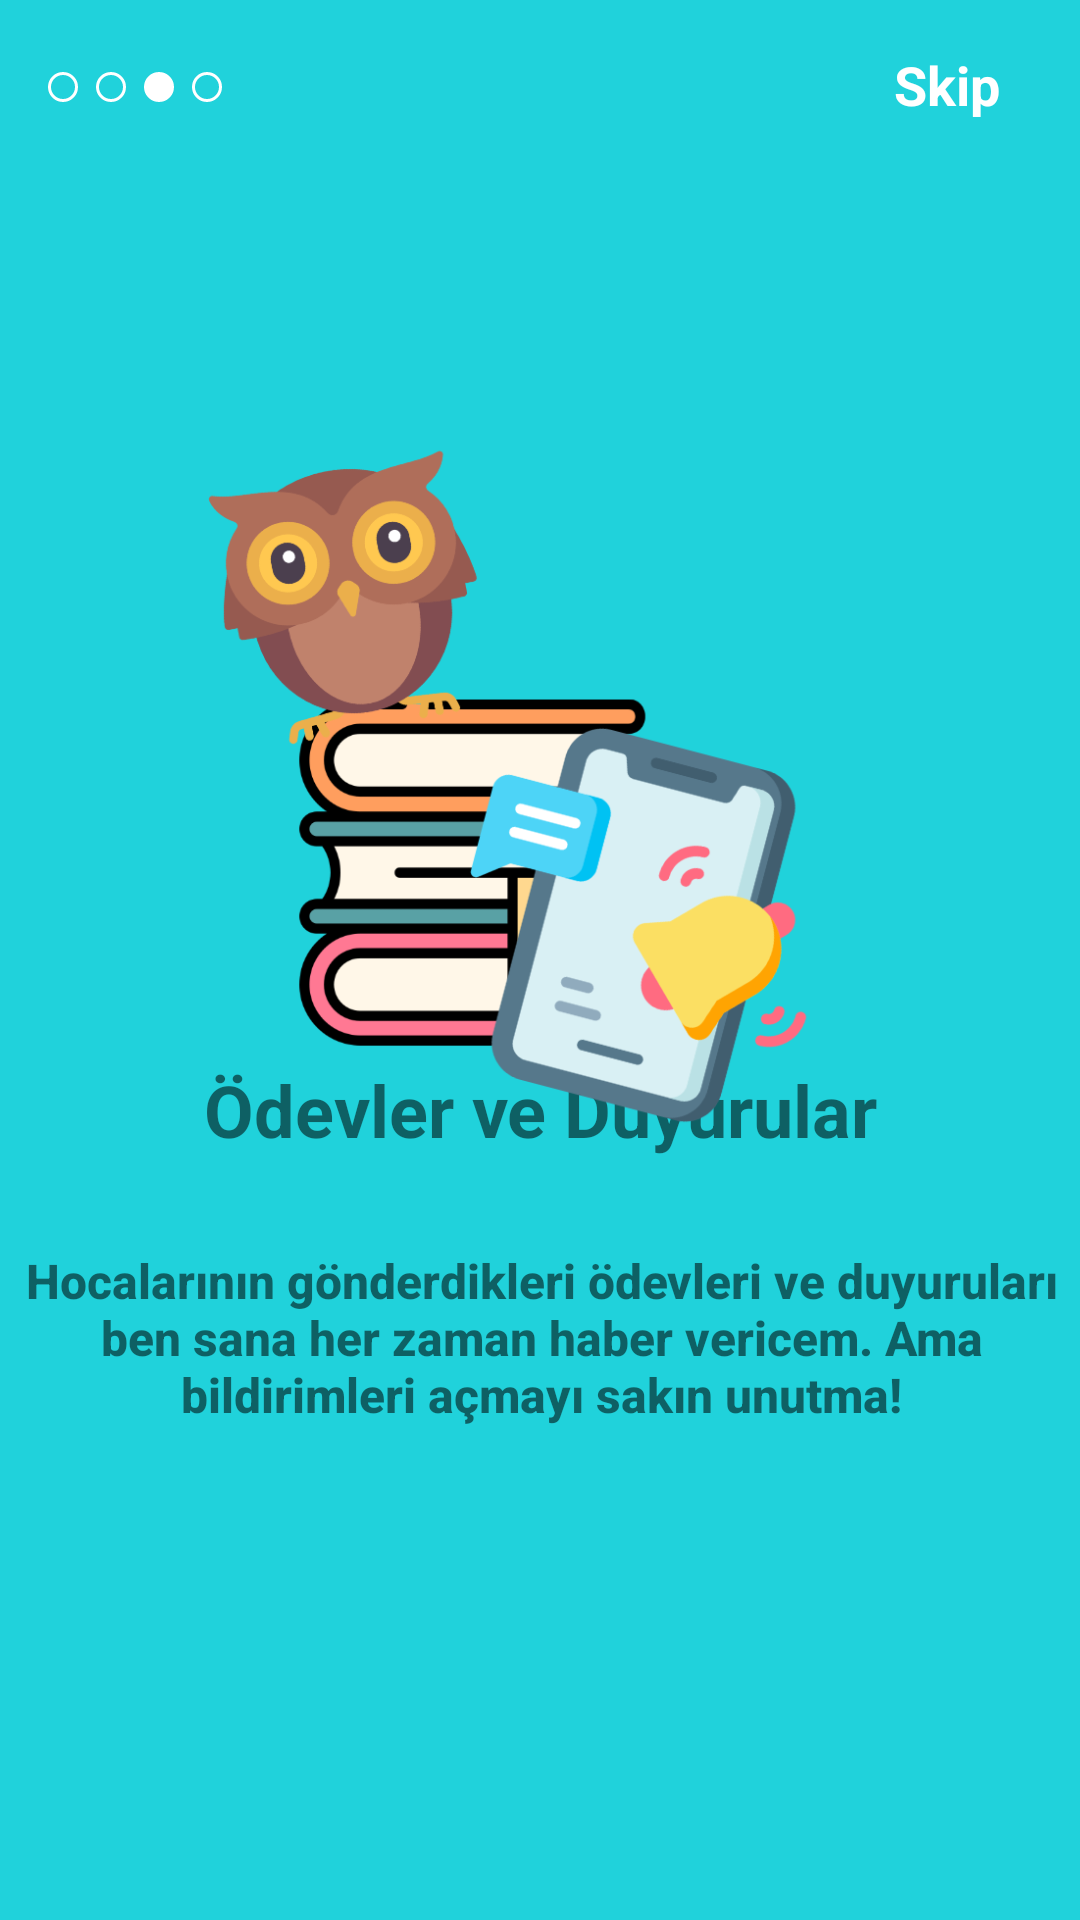

Where to tap for icons on this 1080×1920 app screen, as (x=x, y=y):
circle: (x=63, y=87), (x=111, y=87), (x=159, y=87), (x=207, y=87)
